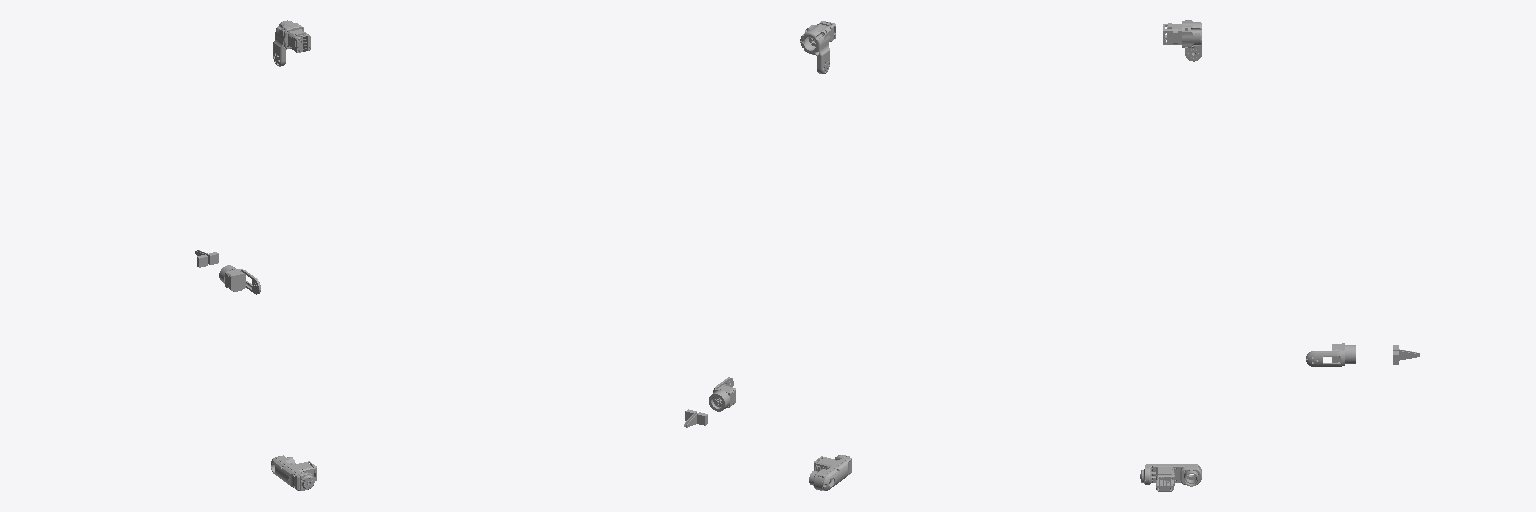
The robot description file, URDF, robot "dummy-ros2":
<?xml version="1.0" encoding="utf-8"?>
<robot name="dummy-ros2">
  <material name="silver">
    <color rgba="0.700 0.700 0.700 1.000"/>
  </material>
  <transmission name="Joint1_tran">
    <type>transmission_interface/SimpleTransmission</type>
    <joint name="Joint1">
      <hardwareInterface>hardware_interface/EffortJointInterface</hardwareInterface>
    </joint>
    <actuator name="Joint1_actr">
      <hardwareInterface>hardware_interface/EffortJointInterface</hardwareInterface>
      <mechanicalReduction>1</mechanicalReduction>
    </actuator>
  </transmission>
  <transmission name="Joint2_tran">
    <type>transmission_interface/SimpleTransmission</type>
    <joint name="Joint2">
      <hardwareInterface>hardware_interface/EffortJointInterface</hardwareInterface>
    </joint>
    <actuator name="Joint2_actr">
      <hardwareInterface>hardware_interface/EffortJointInterface</hardwareInterface>
      <mechanicalReduction>1</mechanicalReduction>
    </actuator>
  </transmission>
  <transmission name="Joint3_tran">
    <type>transmission_interface/SimpleTransmission</type>
    <joint name="Joint3">
      <hardwareInterface>hardware_interface/EffortJointInterface</hardwareInterface>
    </joint>
    <actuator name="Joint3_actr">
      <hardwareInterface>hardware_interface/EffortJointInterface</hardwareInterface>
      <mechanicalReduction>1</mechanicalReduction>
    </actuator>
  </transmission>
  <transmission name="Joint4_tran">
    <type>transmission_interface/SimpleTransmission</type>
    <joint name="Joint4">
      <hardwareInterface>hardware_interface/EffortJointInterface</hardwareInterface>
    </joint>
    <actuator name="Joint4_actr">
      <hardwareInterface>hardware_interface/EffortJointInterface</hardwareInterface>
      <mechanicalReduction>1</mechanicalReduction>
    </actuator>
  </transmission>
  <transmission name="Joint5_tran">
    <type>transmission_interface/SimpleTransmission</type>
    <joint name="Joint5">
      <hardwareInterface>hardware_interface/EffortJointInterface</hardwareInterface>
    </joint>
    <actuator name="Joint5_actr">
      <hardwareInterface>hardware_interface/EffortJointInterface</hardwareInterface>
      <mechanicalReduction>1</mechanicalReduction>
    </actuator>
  </transmission>
  <transmission name="Joint6_tran">
    <type>transmission_interface/SimpleTransmission</type>
    <joint name="Joint6">
      <hardwareInterface>hardware_interface/EffortJointInterface</hardwareInterface>
    </joint>
    <actuator name="Joint6_actr">
      <hardwareInterface>hardware_interface/EffortJointInterface</hardwareInterface>
      <mechanicalReduction>1</mechanicalReduction>
    </actuator>
  </transmission>
  <transmission name="Joint7_tran">
    <type>transmission_interface/SimpleTransmission</type>
    <joint name="Joint7">
      <hardwareInterface>hardware_interface/EffortJointInterface</hardwareInterface>
    </joint>
    <actuator name="Joint7_actr">
      <hardwareInterface>hardware_interface/EffortJointInterface</hardwareInterface>
      <mechanicalReduction>1</mechanicalReduction>
    </actuator>
  </transmission>
  <transmission name="Joint8_tran">
    <type>transmission_interface/SimpleTransmission</type>
    <joint name="Joint8">
      <hardwareInterface>hardware_interface/EffortJointInterface</hardwareInterface>
    </joint>
    <actuator name="Joint8_actr">
      <hardwareInterface>hardware_interface/EffortJointInterface</hardwareInterface>
      <mechanicalReduction>1</mechanicalReduction>
    </actuator>
  </transmission>
  <gazebo>
    <plugin name="control" filename="libgazebo_ros_control.so"/>
  </gazebo>
  <gazebo reference="base_link">
    <material>Gazebo/Silver</material>
    <mu1>0.2</mu1>
    <mu2>0.2</mu2>
    <self_collide>true</self_collide>
    <gravity>true</gravity>
  </gazebo>
  <gazebo reference="link1_1_1">
    <material>Gazebo/Silver</material>
    <mu1>0.2</mu1>
    <mu2>0.2</mu2>
    <self_collide>true</self_collide>
  </gazebo>
  <gazebo reference="link2_1_1">
    <material>Gazebo/Silver</material>
    <mu1>0.2</mu1>
    <mu2>0.2</mu2>
    <self_collide>true</self_collide>
  </gazebo>
  <gazebo reference="link3_1_1">
    <material>Gazebo/Silver</material>
    <mu1>0.2</mu1>
    <mu2>0.2</mu2>
    <self_collide>true</self_collide>
  </gazebo>
  <gazebo reference="link4_1_1">
    <material>Gazebo/Silver</material>
    <mu1>0.2</mu1>
    <mu2>0.2</mu2>
    <self_collide>true</self_collide>
  </gazebo>
  <gazebo reference="link5_1_1">
    <material>Gazebo/Silver</material>
    <mu1>0.2</mu1>
    <mu2>0.2</mu2>
    <self_collide>true</self_collide>
  </gazebo>
  <gazebo reference="link6_1_1">
    <material>Gazebo/Silver</material>
    <mu1>0.2</mu1>
    <mu2>0.2</mu2>
    <self_collide>true</self_collide>
  </gazebo>
  <gazebo reference="gripper_left_link">
    <material>Gazebo/Silver</material>
    <mu1>0.2</mu1>
    <mu2>0.2</mu2>
    <self_collide>true</self_collide>
  </gazebo>
  <gazebo reference="gripper_right_link">
    <material>Gazebo/Silver</material>
    <mu1>0.2</mu1>
    <mu2>0.2</mu2>
    <self_collide>true</self_collide>
  </gazebo>
  <link name="world"/>
  <joint name="world_joint" type="fixed">
    <parent link="world"/>
    <child link="base_link"/>
    <origin xyz="0.0 0.0 0.0" rpy="3.1415926536 3.1415926536 0.0"/>
  </joint>
  <link name="base_link">
    <inertial>
      <origin xyz="-0.014999999232056279 -0.08246735477620445 0.032605452564980174" rpy="0 0 0"/>
      <mass value="2.718238265964926"/>
      <inertia ixx="0.005512" iyy="0.005791" izz="0.005729" ixy="0.0" iyz="7.1e-05" ixz="-0.0"/>
    </inertial>
    <visual>
      <origin xyz="0 0 0" rpy="0 0 0"/>
      <geometry>
        <mesh filename="meshes/base_link.stl" scale="0.001 0.001 0.001"/>
      </geometry>
      <material name="silver"/>
    </visual>
    <collision>
      <origin xyz="0 0 0" rpy="0 0 0"/>
      <geometry>
        <mesh filename="meshes/base_link.stl" scale="0.001 0.001 0.001"/>
      </geometry>
    </collision>
  </link>
  <link name="link1_1_1">
    <inertial>
      <origin xyz="-0.009839298045306172 -0.009665764146279704 0.016866258077055246" rpy="0 0 0"/>
      <mass value="0.41661715346354466"/>
      <inertia ixx="0.00024" iyy="0.000197" izz="0.000294" ixy="-7.9e-05" iyz="7e-05" ixz="4.5e-05"/>
    </inertial>
    <visual>
      <origin xyz="0.015 0.079017 -0.0825" rpy="0 0 0"/>
      <geometry>
        <mesh filename="meshes/link1_1_1.stl" scale="0.001 0.001 0.001"/>
      </geometry>
      <material name="silver"/>
    </visual>
    <collision>
      <origin xyz="0.015 0.079017 -0.0825" rpy="0 0 0"/>
      <geometry>
        <mesh filename="meshes/link1_1_1.stl" scale="0.001 0.001 0.001"/>
      </geometry>
    </collision>
  </link>
  <link name="link2_1_1">
    <inertial>
      <origin xyz="0.01589274835546871 -0.0002176337870416073 0.07388173251947006" rpy="0 0 0"/>
      <mass value="0.8248343726921459"/>
      <inertia ixx="0.003112" iyy="0.003172" izz="0.000413" ixy="-3e-06" iyz="1.8e-05" ixz="0.000549"/>
    </inertial>
    <visual>
      <origin xyz="0.032 0.114017 -0.12" rpy="0 0 0"/>
      <geometry>
        <mesh filename="meshes/link2_1_1.stl" scale="0.001 0.001 0.001"/>
      </geometry>
      <material name="silver"/>
    </visual>
    <collision>
      <origin xyz="0.032 0.114017 -0.12" rpy="0 0 0"/>
      <geometry>
        <mesh filename="meshes/link2_1_1.stl" scale="0.001 0.001 0.001"/>
      </geometry>
    </collision>
  </link>
  <link name="link3_1_1">
    <inertial>
      <origin xyz="-0.00556719985211092 -0.0008849434541333689 0.032857930319999507" rpy="0 0 0"/>
      <mass value="0.334446749870256"/>
      <inertia ixx="0.000242" iyy="0.000299" izz="0.000122" ixy="-3e-06" iyz="5e-06" ixz="7.5e-05"/>
    </inertial>
    <visual>
      <origin xyz="-0.0 0.114017 -0.266" rpy="0 0 0"/>
      <geometry>
        <mesh filename="meshes/link3_1_1.stl" scale="0.001 0.001 0.001"/>
      </geometry>
      <material name="silver"/>
    </visual>
    <collision>
      <origin xyz="-0.0 0.114017 -0.266" rpy="0 0 0"/>
      <geometry>
        <mesh filename="meshes/link3_1_1.stl" scale="0.001 0.001 0.001"/>
      </geometry>
    </collision>
  </link>
  <link name="link4_1_1">
    <inertial>
      <origin xyz="0.004619417619842917 -0.05852434935618758 -1.7565479792924776e-07" rpy="0 0 0"/>
      <mass value="0.38229981321745393"/>
      <inertia ixx="0.000681" iyy="7.7e-05" izz="0.000663" ixy="-3e-06" iyz="0.0" ixz="-0.0"/>
    </inertial>
    <visual>
      <origin xyz="0.017 0.131517 -0.318" rpy="0 0 0"/>
      <geometry>
        <mesh filename="meshes/link4_1_1.stl" scale="0.001 0.001 0.001"/>
      </geometry>
      <material name="silver"/>
    </visual>
    <collision>
      <origin xyz="0.017 0.131517 -0.318" rpy="0 0 0"/>
      <geometry>
        <mesh filename="meshes/link4_1_1.stl" scale="0.001 0.001 0.001"/>
      </geometry>
    </collision>
  </link>
  <link name="link5_1_1">
    <inertial>
      <origin xyz="0.0009057999155941757 -0.02906083845119581 -2.2799463705869272e-08" rpy="0 0 0"/>
      <mass value="0.14119342984175104"/>
      <inertia ixx="0.000118" iyy="3.6e-05" izz="0.000122" ixy="2.5e-05" iyz="0.0" ixz="0.0"/>
    </inertial>
    <visual>
      <origin xyz="-0.01 -0.08 -0.318" rpy="0 0 0"/>
      <geometry>
        <mesh filename="meshes/link5_1_1.stl" scale="0.001 0.001 0.001"/>
      </geometry>
      <material name="silver"/>
    </visual>
    <collision>
      <origin xyz="-0.01 -0.08 -0.318" rpy="0 0 0"/>
      <geometry>
        <mesh filename="meshes/link5_1_1.stl" scale="0.001 0.001 0.001"/>
      </geometry>
    </collision>
  </link>
  <link name="link6_1_1">
    <inertial>
      <origin xyz="-0.0003068043075796188 0.01033562863039611 -3.814698834592178e-09" rpy="0 0 0"/>
      <mass value="0.21609201162441805"/>
      <inertia ixx="3.1e-05" iyy="4.2e-05" izz="3.2e-05" ixy="1e-06" iyz="-0.0" ixz="-0.0"/>
    </inertial>
    <visual>
      <origin xyz="0.013 0.2465 -0.3545" rpy="0 0 3.141592654"/>
      <geometry>
        <mesh filename="meshes/link6_1_1.stl" scale="0.001 0.001 0.001"/>
      </geometry>
      <material name="silver"/>
    </visual>
    <collision>
      <origin xyz="0.013 0.2465 -0.3545" rpy="0 0 0"/>
      <geometry>
        <mesh filename="meshes/link6_1_1.stl" scale="0.001 0.001 0.001"/>
      </geometry>
    </collision>
  </link>
  <joint name="Joint1" type="revolute">
    <origin xyz="-0.015 -0.079017 0.0825" rpy="0 0 0"/>
    <parent link="base_link"/>
    <child link="link1_1_1"/>
    <axis xyz="0.0 0.0 1.0"/>
    <limit lower="-3.141593" upper="3.141593" effort="150" velocity="3.15"/>
  </joint>
  <joint name="Joint2" type="revolute">
    <origin xyz="-0.017 -0.035 0.0375" rpy="0 0 0"/>
    <parent link="link1_1_1"/>
    <child link="link2_1_1"/>
    <axis xyz="1.0 0.0 -0.0"/>
    <limit lower="-1.308997" upper="1.570796" effort="150" velocity="3.15"/>
  </joint>
  <joint name="Joint3" type="revolute">
    <origin xyz="0.032 0.0 0.146" rpy="0 0 0"/>
    <parent link="link2_1_1"/>
    <child link="link3_1_1"/>
    <axis xyz="1.0 -0.0 -0.0"/>
    <limit lower="-1.570796" upper="1.570796" effort="150" velocity="3.15"/>
  </joint>
  <joint name="Joint4" type="revolute">
    <origin xyz="-0.017 -0.0175 0.052" rpy="0 0 0"/>
    <parent link="link3_1_1"/>
    <child link="link4_1_1"/>
    <axis xyz="0.0 -1.0 0.0"/>
    <limit lower="-3.14" upper="3.14" effort="150" velocity="3.15"/>
  </joint>
  <joint name="Joint5" type="revolute">
    <origin xyz="-0.0176 -0.1025 0.0" rpy="0 0 0"/>
    <parent link="link4_1_1"/>
    <child link="link5_1_1"/>
    <axis xyz="-1.0 -0.0 0.0"/>
    <limit lower="-1.570796" upper="1.570796" effort="150" velocity="3.15"/>
  </joint>
  <joint name="Joint6" type="revolute">
    <origin xyz="0.0186 -0.0605 0.0" rpy="0 0 0"/>
    <parent link="link5_1_1"/>
    <child link="link6_1_1"/>
    <axis xyz="0.0 1.0 -0.0"/>
    <limit lower="-3.14" upper="3.14" effort="150" velocity="3.15"/>
  </joint>
  <link name="gripper_left_link">
    <inertial>
      <origin xyz="0 0 0" rpy="0 0 0"/>
      <mass value="0.05"/>
      <inertia ixx="1e-5" iyy="1e-5" izz="1e-5" ixy="0" iyz="0" ixz="0"/>
    </inertial>
    <visual>
      <origin xyz="0 0 0" rpy="0 0 0"/>
      <geometry>
        <mesh filename="meshes/gripper.stl" scale="0.001 0.001 0.001"/>
      </geometry>
      <material name="silver"/>
    </visual>
    <collision>
      <origin xyz="0 0 0" rpy="0 0 0"/>
      <geometry>
        <mesh filename="meshes/gripper.stl" scale="0.001 0.001 0.001"/>
      </geometry>
    </collision>
  </link>
  <link name="gripper_right_link">
    <inertial>
      <origin xyz="0 0 0" rpy="0 0 0"/>
      <mass value="0.05"/>
      <inertia ixx="1e-5" iyy="1e-5" izz="1e-5" ixy="0" iyz="0" ixz="0"/>
    </inertial>
    <visual>
      <origin xyz="0 0 0" rpy="0 0 0"/>
      <geometry>
        <mesh filename="meshes/gripper.stl" scale="0.001 0.001 0.001"/>
      </geometry>
      <material name="silver"/>
    </visual>
    <collision>
      <origin xyz="0 0 0" rpy="0 0 0"/>
      <geometry>
        <mesh filename="meshes/gripper.stl" scale="0.001 0.001 0.001"/>
      </geometry>
    </collision>
  </link>
  <joint name="Joint7" type="prismatic">
    <origin xyz="-0.011000 0.232000 0.353000" rpy="3.141592654 0.000000 0.000000"/>
    <parent link="link6_1_1"/>
    <child link="gripper_left_link"/>
    <axis xyz="1.0 0.0 0.0"/>
    <limit lower="0.000000" upper="0.025000" effort="50" velocity="0.5"/>
  </joint>
  <joint name="Joint8" type="prismatic">
    <origin xyz="0.011000 0.232000 -0.354500" rpy="0.000000 0.000000 3.141590"/>
    <parent link="link6_1_1"/>
    <child link="gripper_right_link"/>
    <axis xyz="-1.0 0.0 0.0"/>
    <limit lower="-0.025000" upper="0.000000" effort="50" velocity="0.5"/>
  </joint>
</robot>

--- Render facts (derived) ---
3 views of the same robot in one strip: view 1: azimuth 30°, elevation 25°; view 2: azimuth 150°, elevation 25°; view 3: azimuth 270°, elevation 25° (orthographic).
Model dummy-ros2 with 10 links and 9 joints (6 revolute, 2 prismatic, 1 fixed), rooted at world, posed all joints at 0.
Visible links, largest first — view 1: link3_1_1, link4_1_1, link5_1_1; view 2: link3_1_1, link4_1_1, link5_1_1; view 3: link4_1_1, link3_1_1, link5_1_1.
Link boxes in pixels (x1=…): link3_1_1: x1=273, y1=20, x2=310, y2=66; link4_1_1: x1=271, y1=455, x2=316, y2=490; link5_1_1: x1=219, y1=265, x2=260, y2=294; link3_1_1: x1=800, y1=21, x2=835, y2=73; link4_1_1: x1=809, y1=455, x2=851, y2=490; link5_1_1: x1=709, y1=377, x2=735, y2=411; link4_1_1: x1=1140, y1=464, x2=1201, y2=491; link3_1_1: x1=1163, y1=20, x2=1201, y2=61; link5_1_1: x1=1306, y1=343, x2=1355, y2=366.
Size in the robot's own frame: 0.1118 by 0.5714 by 1.05 metres.
5 mesh visuals loaded from 8 distinct referenced files (4 binary STL); not drawn: 4 (reference not matched to a file when rendering).
